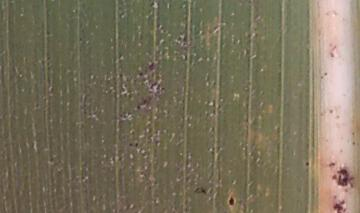tarspot: (226, 193, 237, 209), (133, 138, 142, 152), (302, 158, 311, 168), (126, 140, 133, 150)
